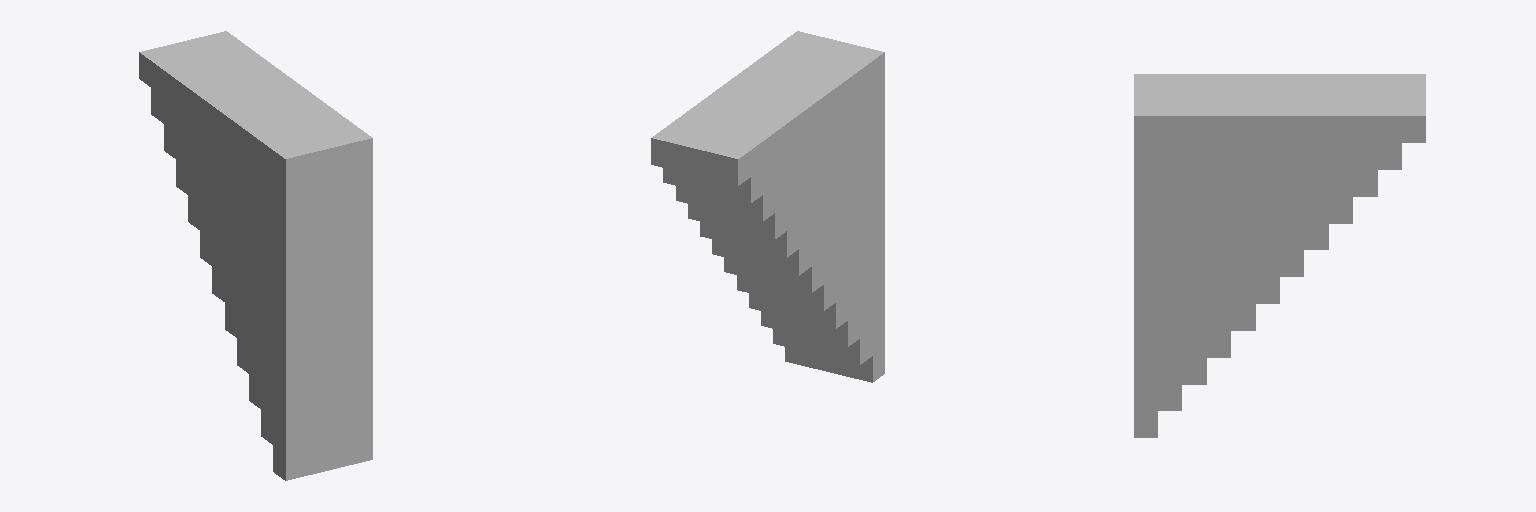
The model's file is stairs-stone-square.obj.
The picture shows the model from 3 angles: view 1: azimuth 30°, elevation 25°; view 2: azimuth 150°, elevation 25°; view 3: azimuth 270°, elevation 25°; orthographic projection.
Parts seen in each view (by area): view 1: stairs-stone-square; view 2: stairs-stone-square; view 3: stairs-stone-square.
Part boxes in pixels (x1,y1,x2,y2): stairs-stone-square: (139,31,372,480); stairs-stone-square: (651,31,884,382); stairs-stone-square: (1134,74,1425,437).
Bounding box in the file's own units: 0.2325 × 0.819 × 0.675.